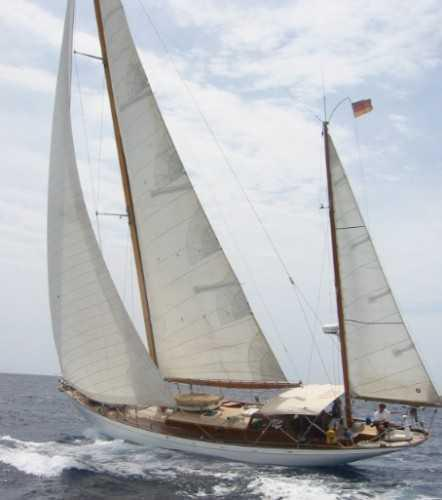Ship: (50, 1, 441, 469)
